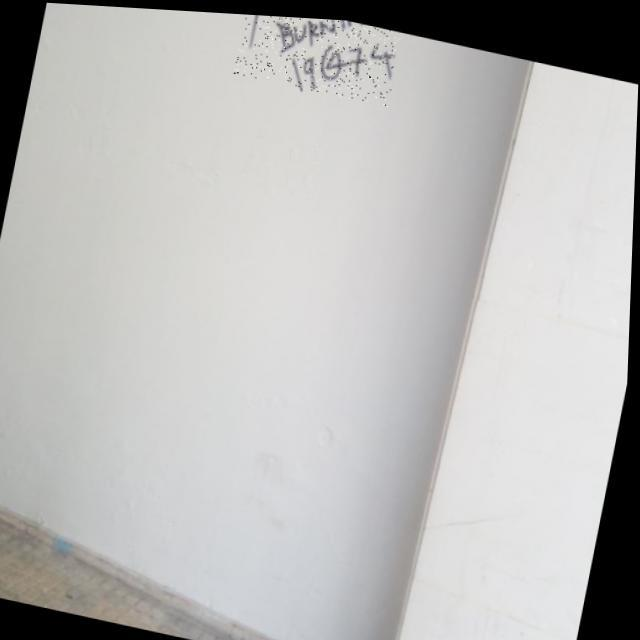-: (233, 11, 402, 103)
